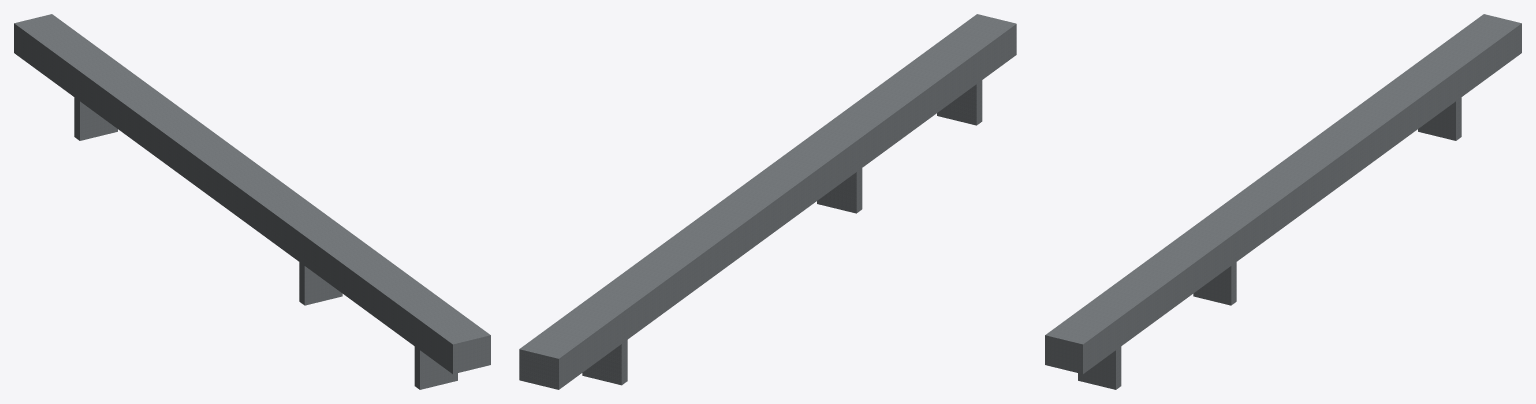
Rendered from 回转窑-20220904.glb.
3 renders of one model, left to right at view 1: azimuth 30°, elevation 25°; view 2: azimuth 150°, elevation 25°; view 3: azimuth 330°, elevation 25°, orthographic. The views are drawn at different scales.
Parts seen in each view (by area): view 1: root; view 2: root; view 3: root.
Boxes of the visible parts, x1=… form: root: x1=14, y1=14, x2=490, y2=389; root: x1=519, y1=14, x2=1016, y2=389; root: x1=1045, y1=14, x2=1521, y2=389.
Size of the model in its own units: 2 by 3.5 by 40.
2 materials, 1 textured.
